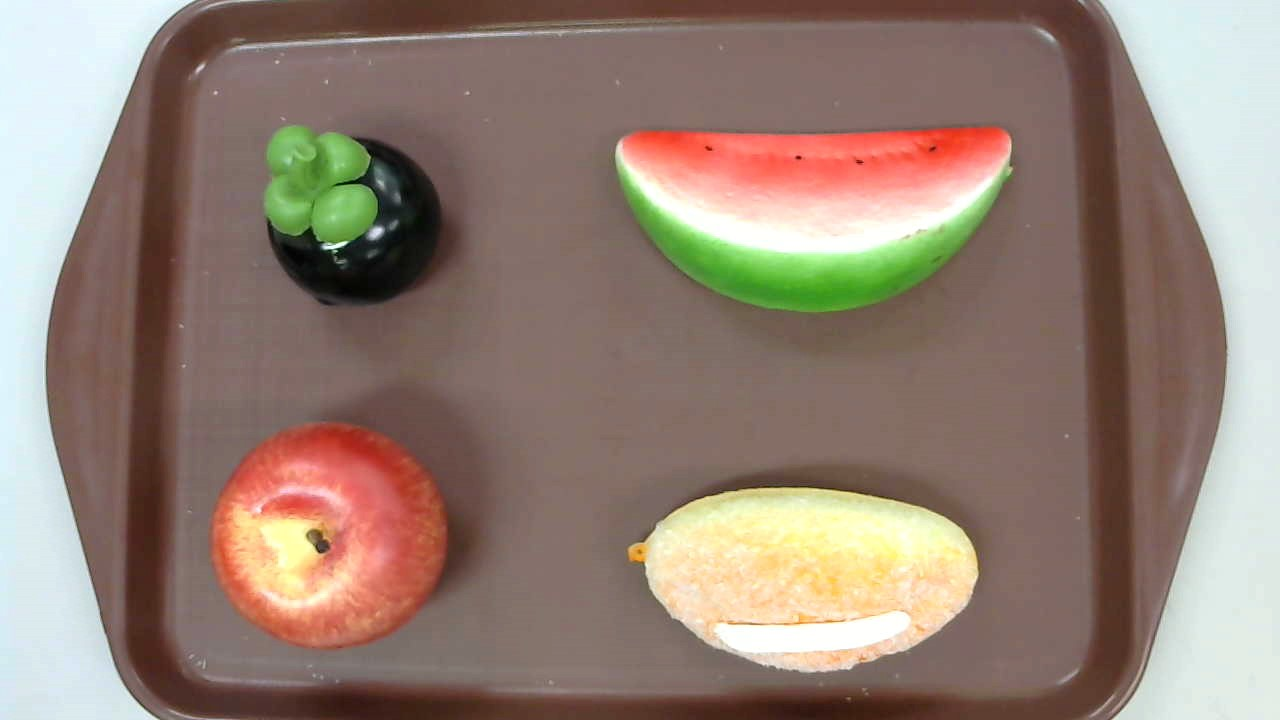coconut: (628, 486, 978, 672)
mangosteen: (264, 122, 446, 311)
red apple: (208, 421, 447, 649)
water melon: (613, 125, 1014, 316)
